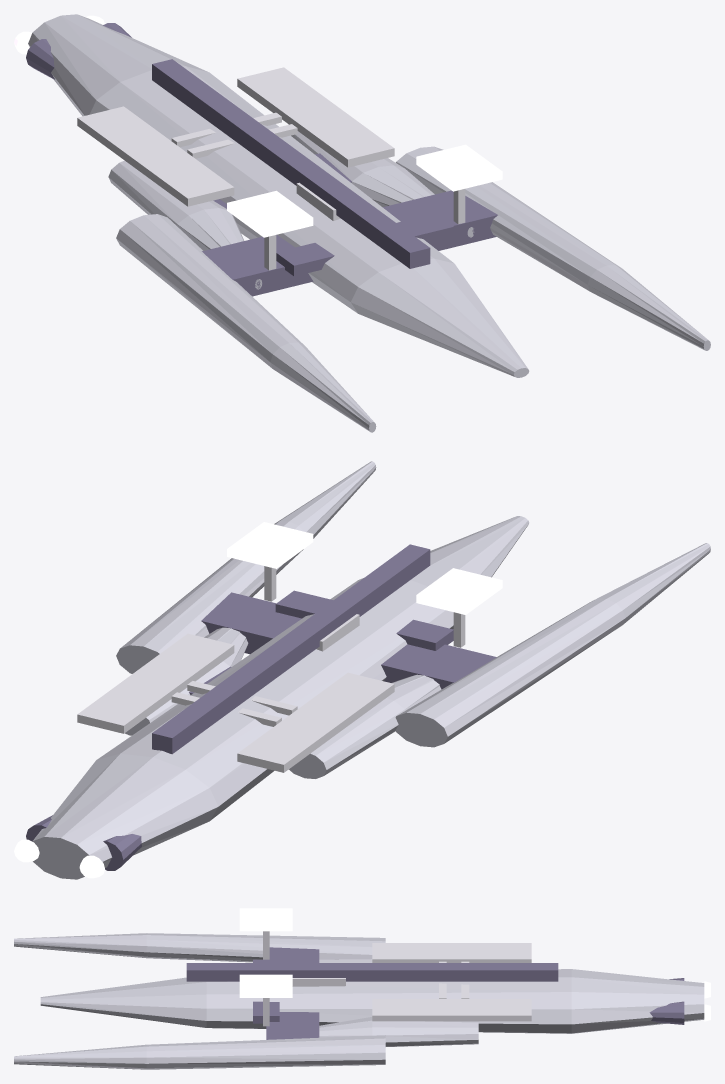
The picture shows the model from 3 angles, top to bottom: view 1: azimuth 30°, elevation 25°; view 2: azimuth 150°, elevation 25°; view 3: azimuth 270°, elevation 25°; orthographic projection. The views are drawn at different scales.
Size of the model in its own units: 4.54 by 1.28 by 10.71.
